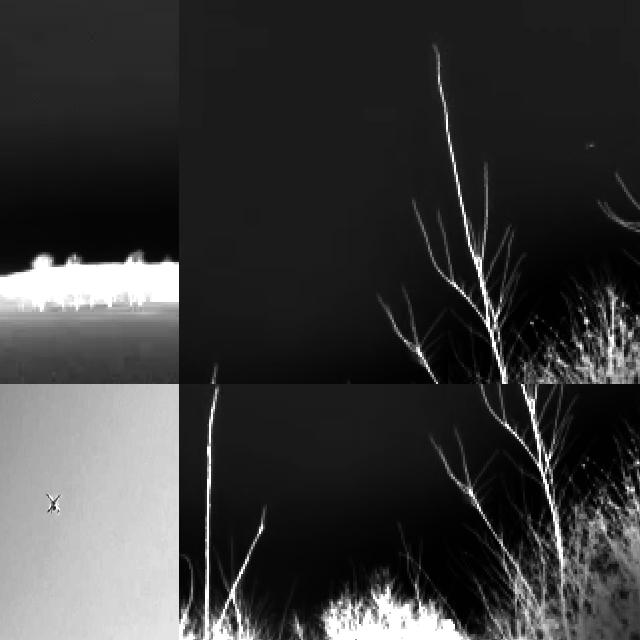0: (574, 133, 604, 163)
drone: (42, 489, 64, 521)
